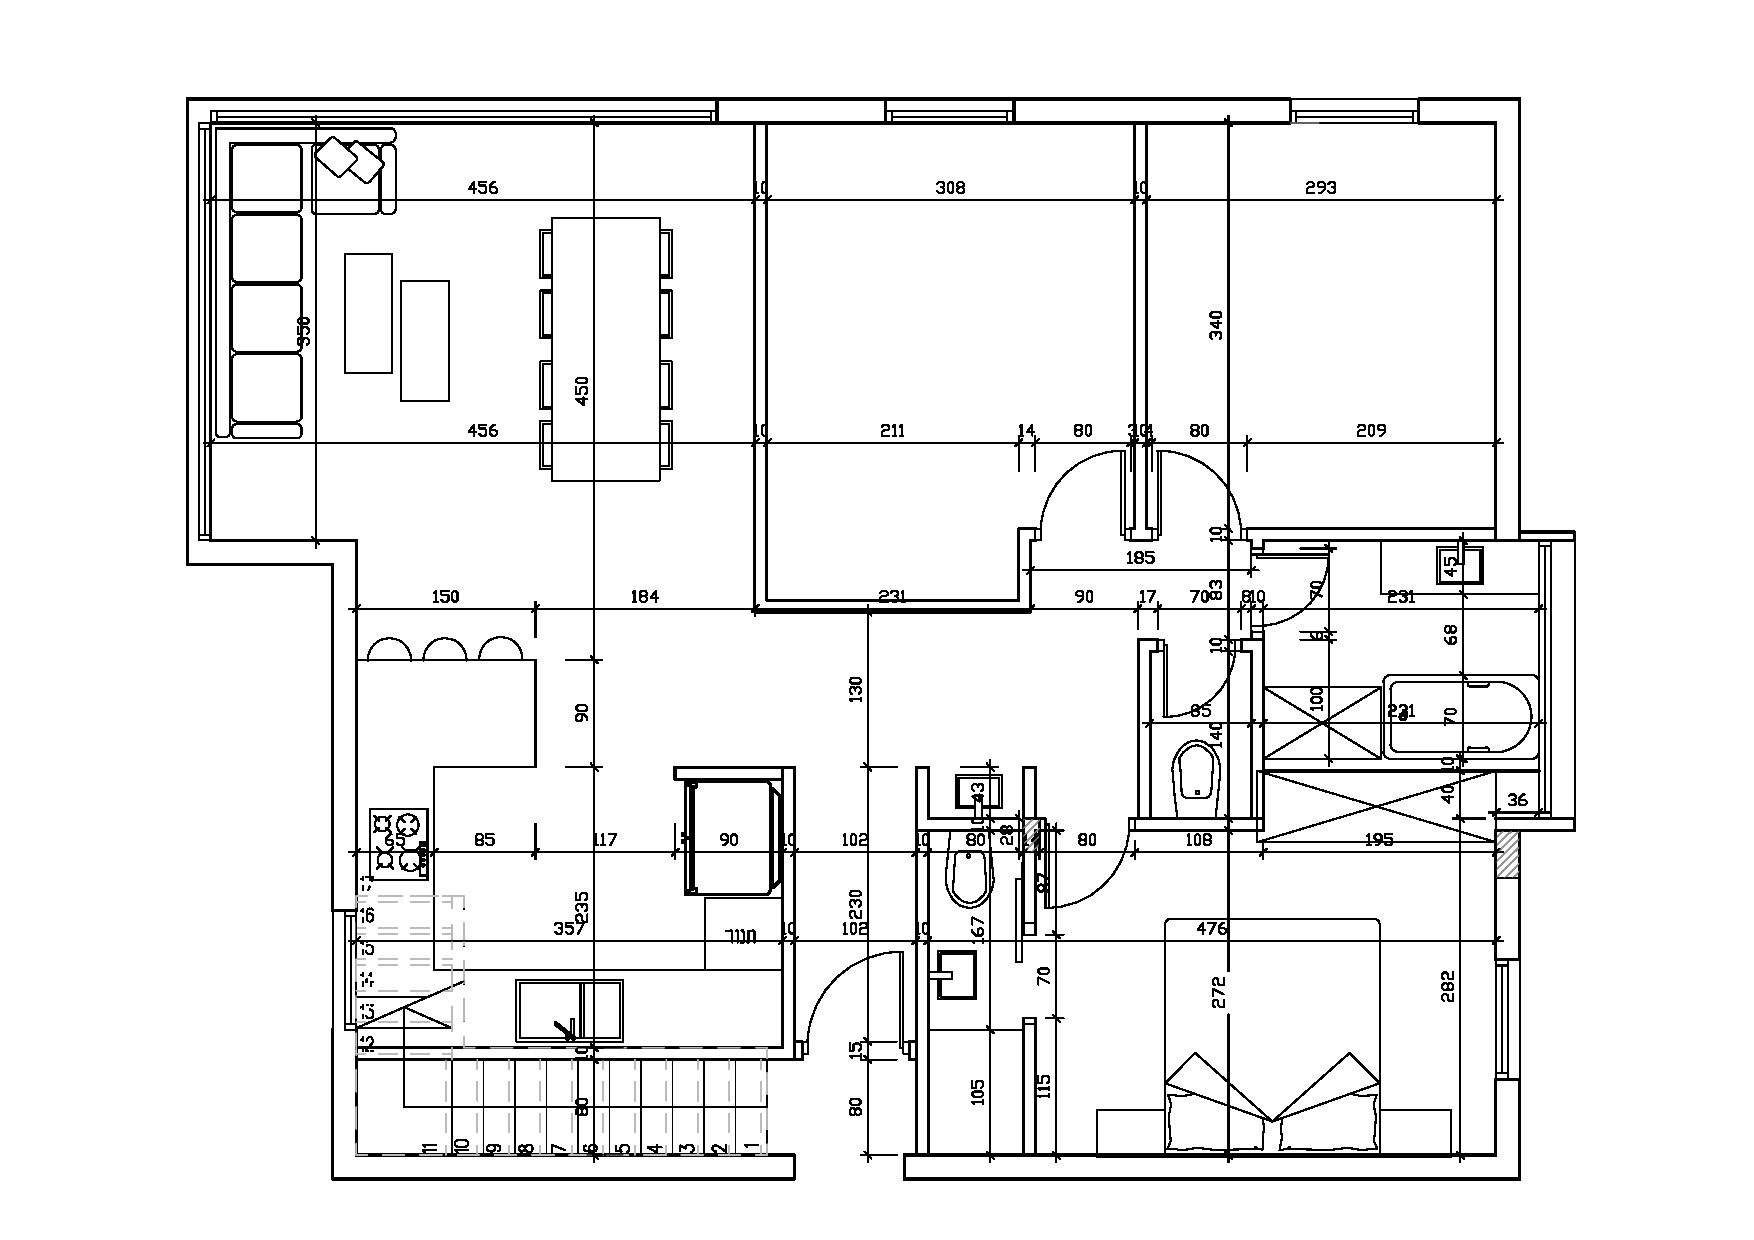door: (1039, 450, 1126, 530)
window: (888, 94, 1017, 122), (1496, 960, 1518, 1079), (1294, 105, 1420, 119)
